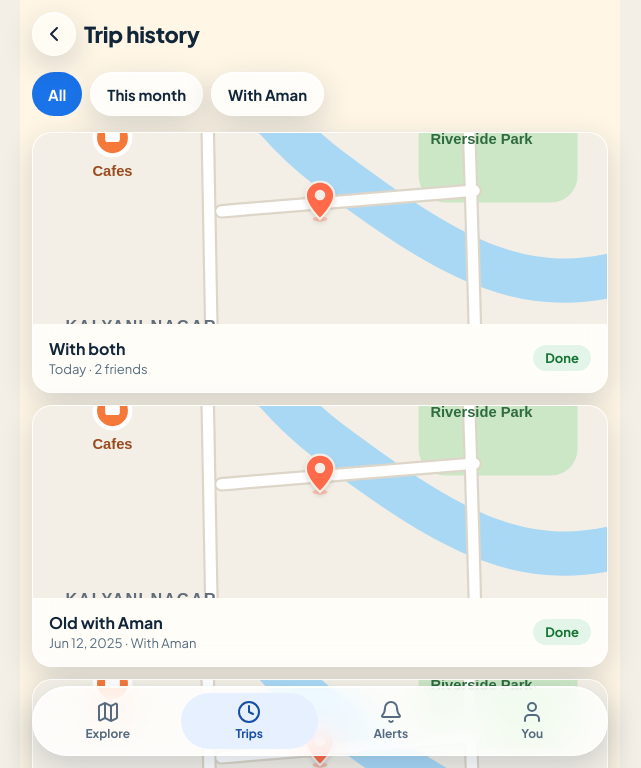
Test: Trip history › filters to this month and to the friend you travel with most
Later steps or results of the test are not shown.
Click the button "This month" at (147, 94), box [90,72,203,116]
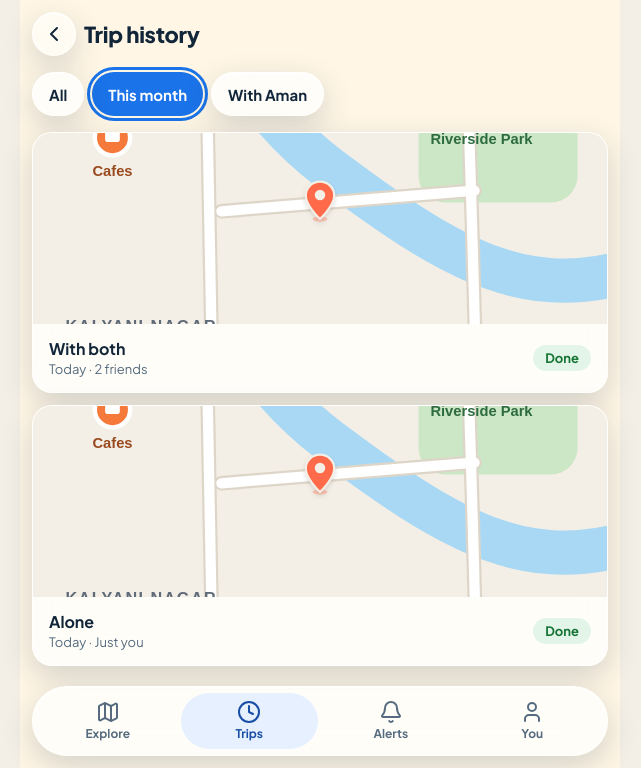
Click the button "With Aman" at (268, 94), box [211,72,324,116]
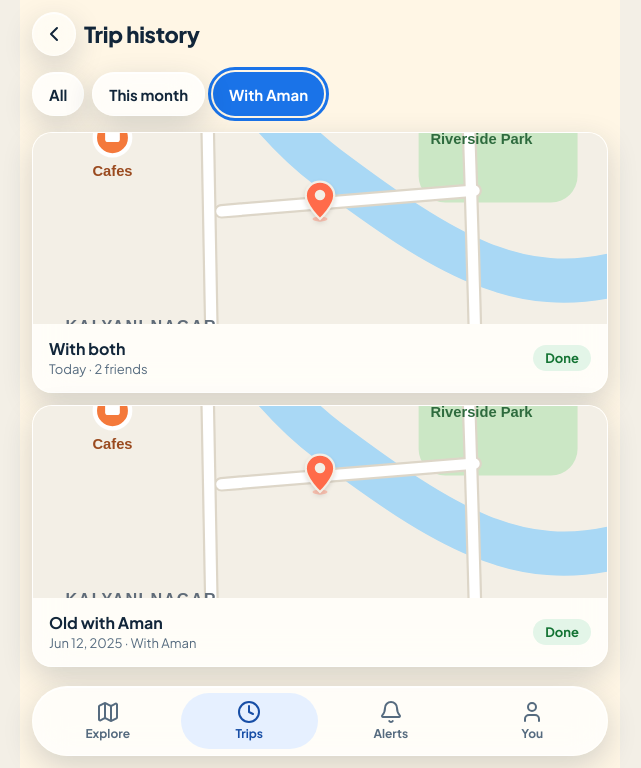
Result: the button "With Aman" is pressed at [213,72,324,116]
